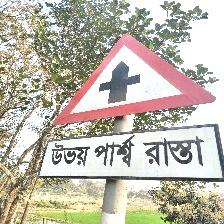Crossroad: (40, 28, 222, 188)
